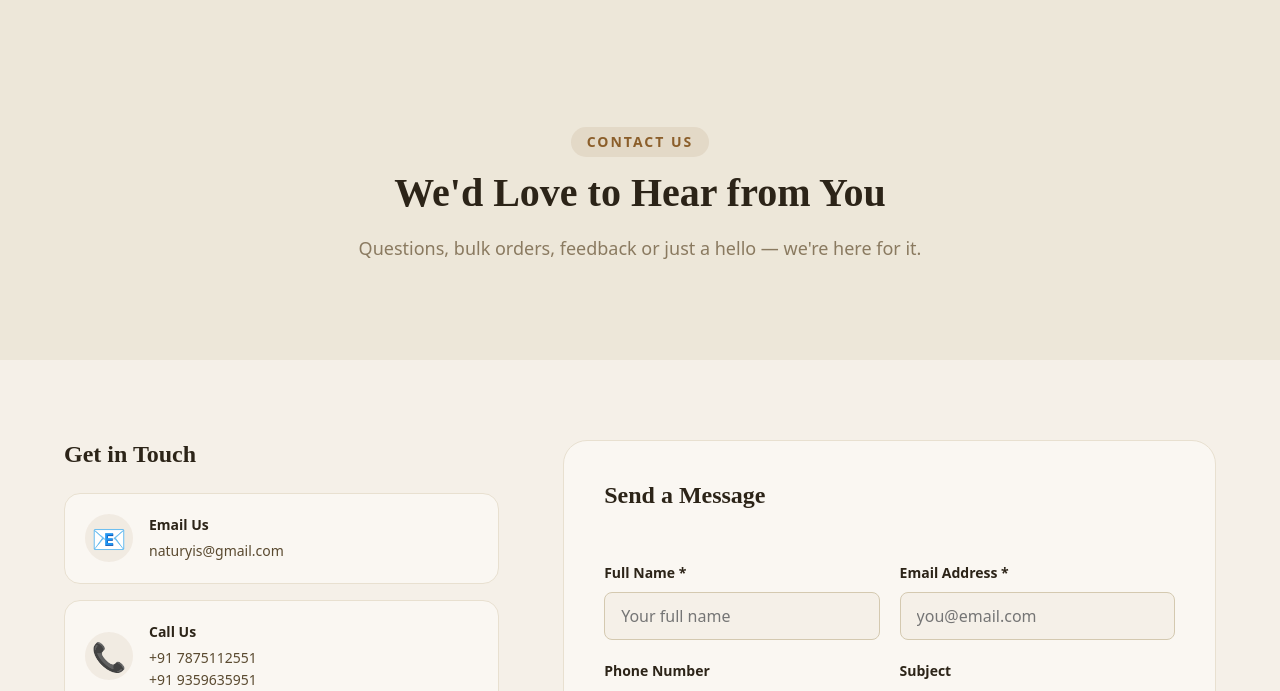
Contact Page › shows email validation error for invalid email
In the field labelled "Full Name *": (742,616) x1=604 y1=592 x2=880 y2=640, type "Test User"
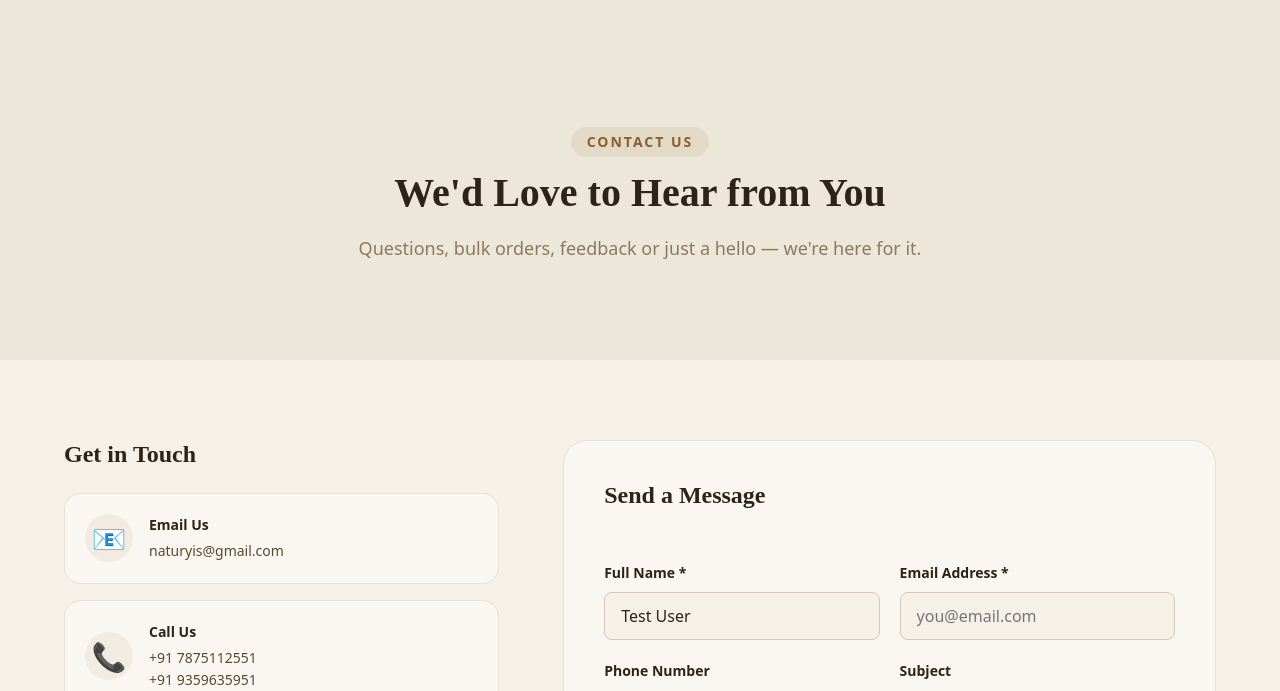
In the field labelled "Email Address *": (1037,616) x1=900 y1=592 x2=1175 y2=640, type "invalidemail"
(page scrolled)
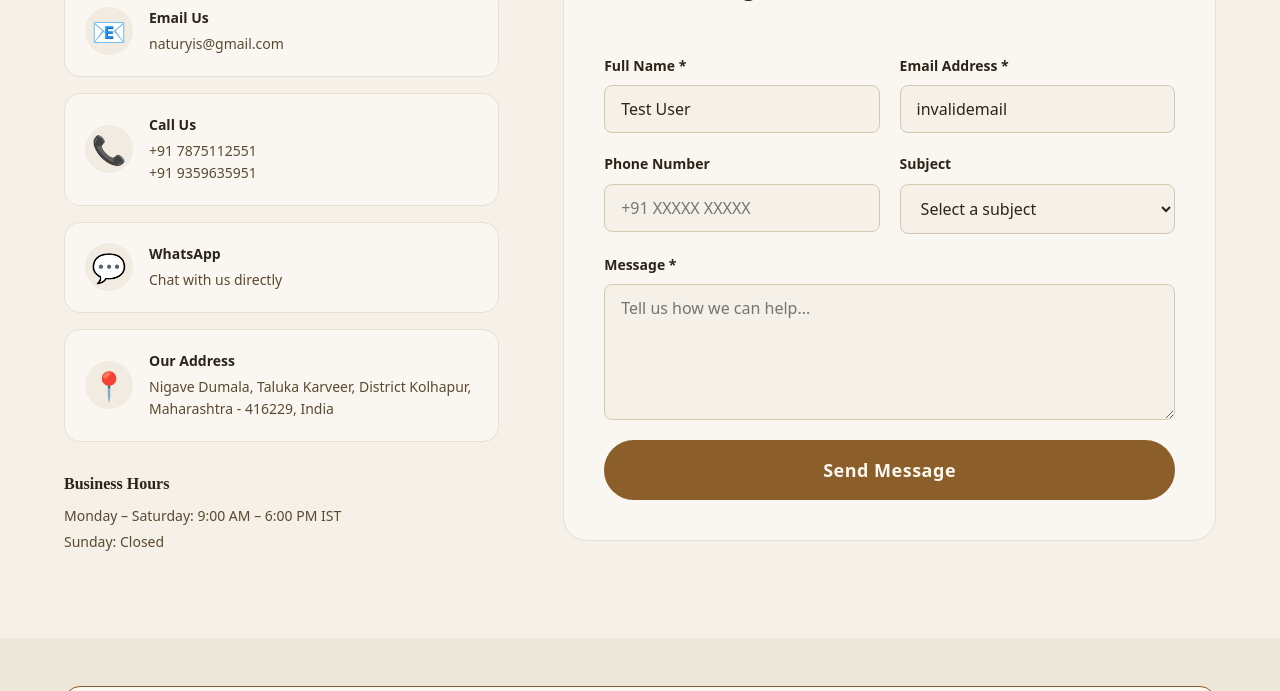
In the text box labelled "Message *": (890,352) x1=604 y1=284 x2=1175 y2=420, type "Test message"
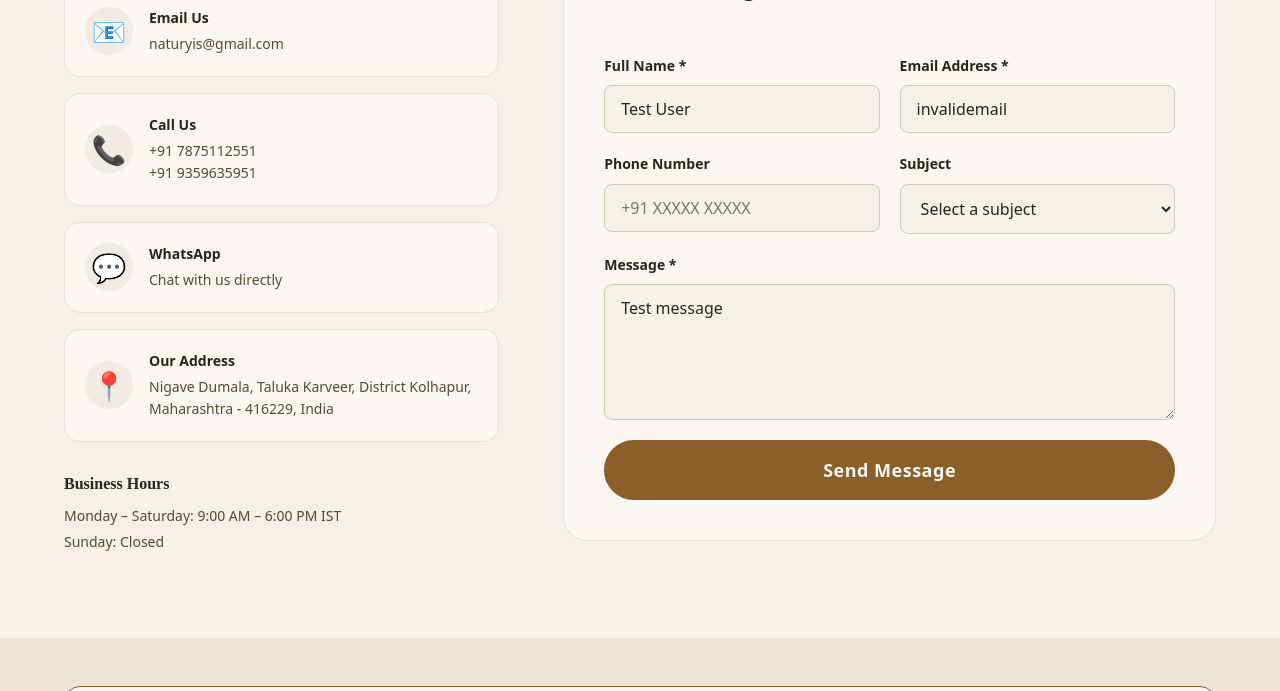
Click the button "Send Message": (890,470) x1=604 y1=440 x2=1175 y2=500
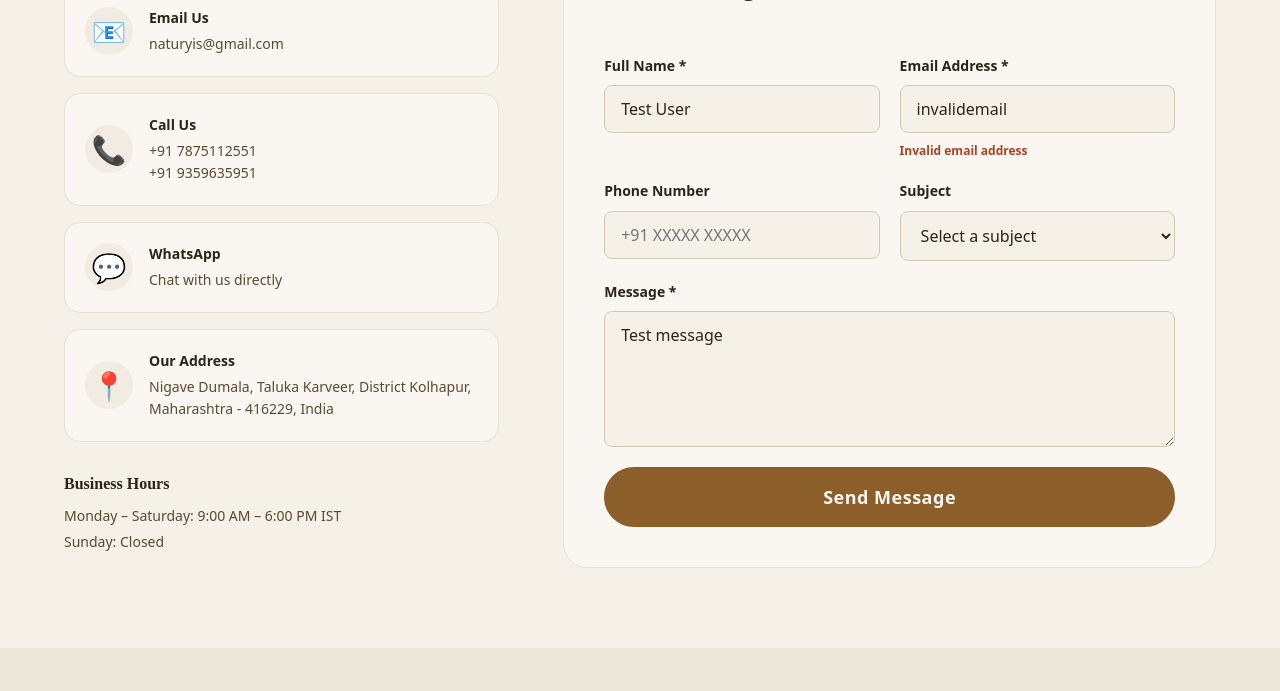
Now the text "Invalid email address" is shown, box x1=900 y1=142 x2=1028 y2=159
